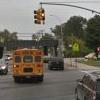traffic lights: (33, 8, 41, 24)
